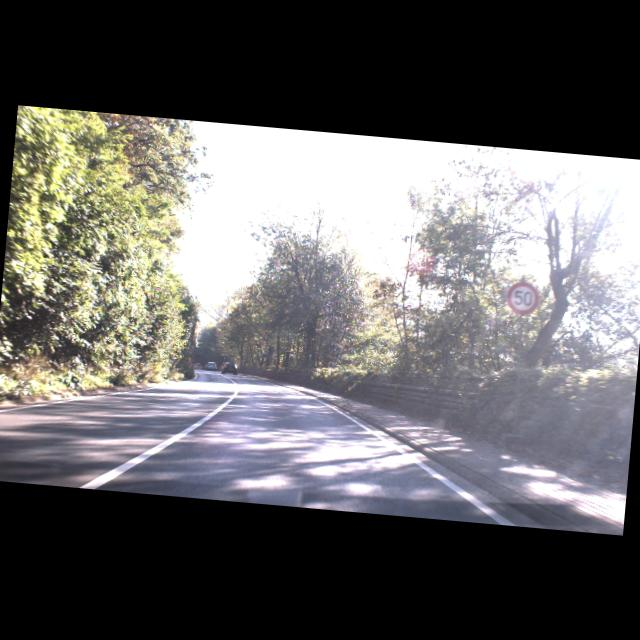prohibitory: (504, 279, 540, 316)
